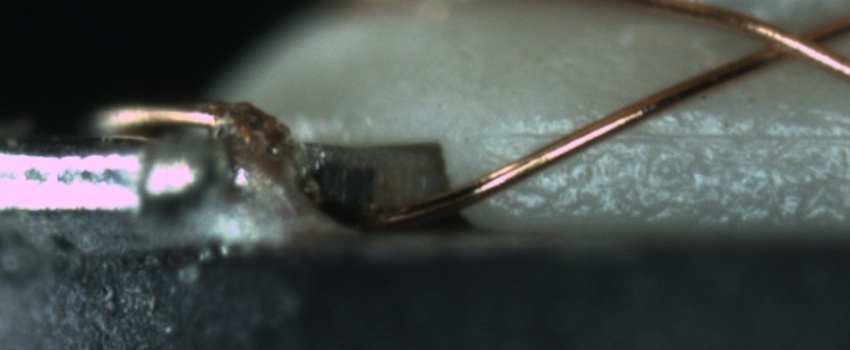CL: (744, 12, 844, 71)
DL: (476, 103, 849, 164)
TE: (83, 92, 291, 143)
